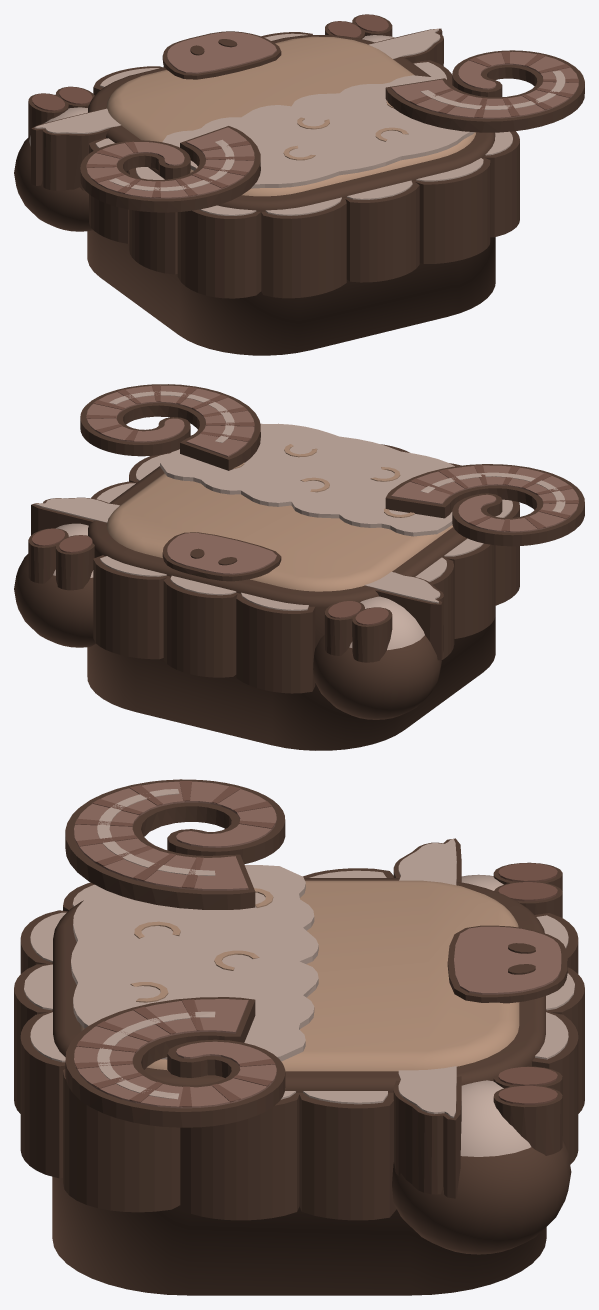
The model's file is body_carneiro.fbx.
The picture shows the model from 3 angles, top to bottom: view 1: azimuth 30°, elevation 25°; view 2: azimuth 150°, elevation 25°; view 3: azimuth 270°, elevation 25°; orthographic projection. The views are drawn at different scales.
Visible parts, largest first — view 1: body_carneiro_corpo, body_carneiro_mao_esq, body_carneiro_mao; view 2: body_carneiro_corpo, body_carneiro_mao_esq, body_carneiro_mao; view 3: body_carneiro_corpo, body_carneiro_mao, body_carneiro_mao_esq.
Part boxes in pixels (x1=…): body_carneiro_corpo: x1=80, y1=31, x2=584, y2=355; body_carneiro_mao_esq: x1=14, y1=86, x2=120, y2=231; body_carneiro_mao: x1=325, y1=14, x2=443, y2=65; body_carneiro_corpo: x1=80, y1=384, x2=584, y2=750; body_carneiro_mao_esq: x1=313, y1=571, x2=443, y2=719; body_carneiro_mao: x1=14, y1=497, x2=119, y2=647; body_carneiro_corpo: x1=14, y1=779, x2=584, y2=1295; body_carneiro_mao: x1=392, y1=1066, x2=571, y2=1254; body_carneiro_mao_esq: x1=393, y1=838, x2=562, y2=917.
Size of the model in its own units: 6.37 by 2.21 by 4.62.
Materials: 1 (1 with a texture image).
